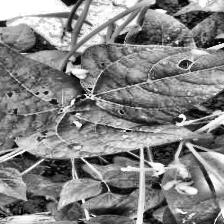ALS: (75, 42, 224, 107), (0, 18, 79, 134), (19, 104, 208, 151)
